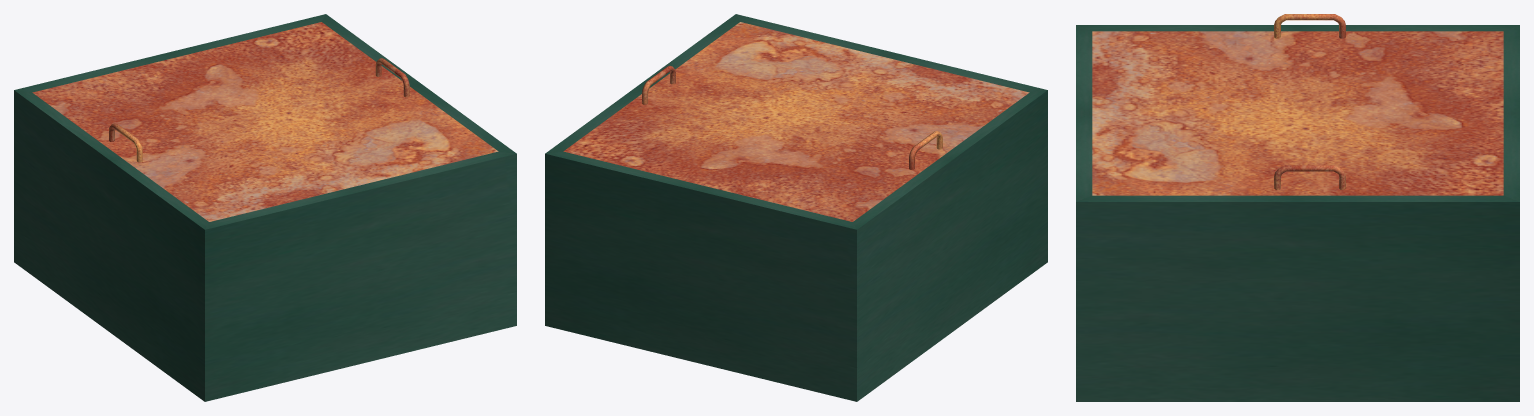
File: tiexiang_1_mol.FBX
3 renders of one model, left to right at view 1: azimuth 30°, elevation 25°; view 2: azimuth 150°, elevation 25°; view 3: azimuth 270°, elevation 25°, orthographic. The views are drawn at different scales.
Visible parts, largest first — view 1: tiexiang; view 2: tiexiang; view 3: tiexiang.
Boxes of the visible parts, x1,y1,x2,y2 form: tiexiang: (14,14,516,401); tiexiang: (545,14,1047,401); tiexiang: (1076,14,1519,401).
Bounding box in the file's own units: 0.8058 × 0.8538 × 0.4739.
